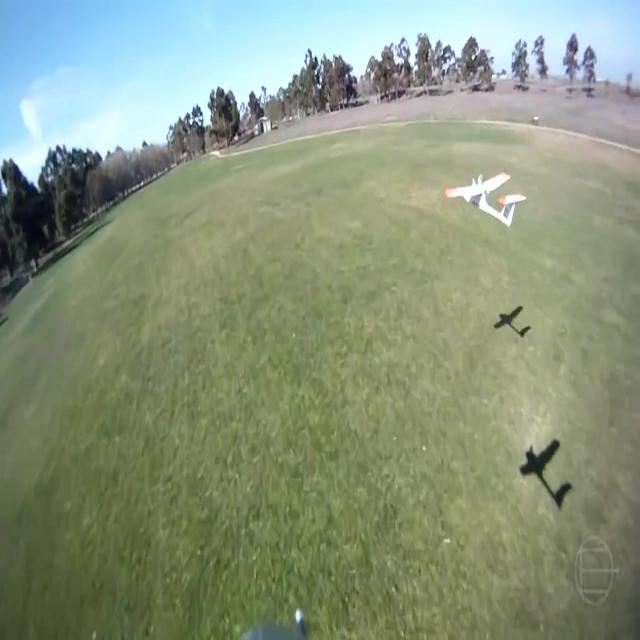iha: (475, 161, 494, 223)
